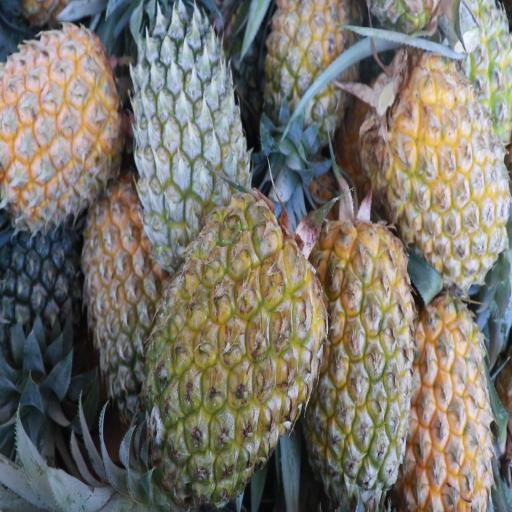------------------------------: (88, 180, 176, 392), (265, 0, 356, 138)
Pineapple - v8 v1: (152, 201, 317, 495), (310, 211, 411, 490), (375, 55, 506, 258), (0, 31, 121, 207), (409, 294, 492, 510)
